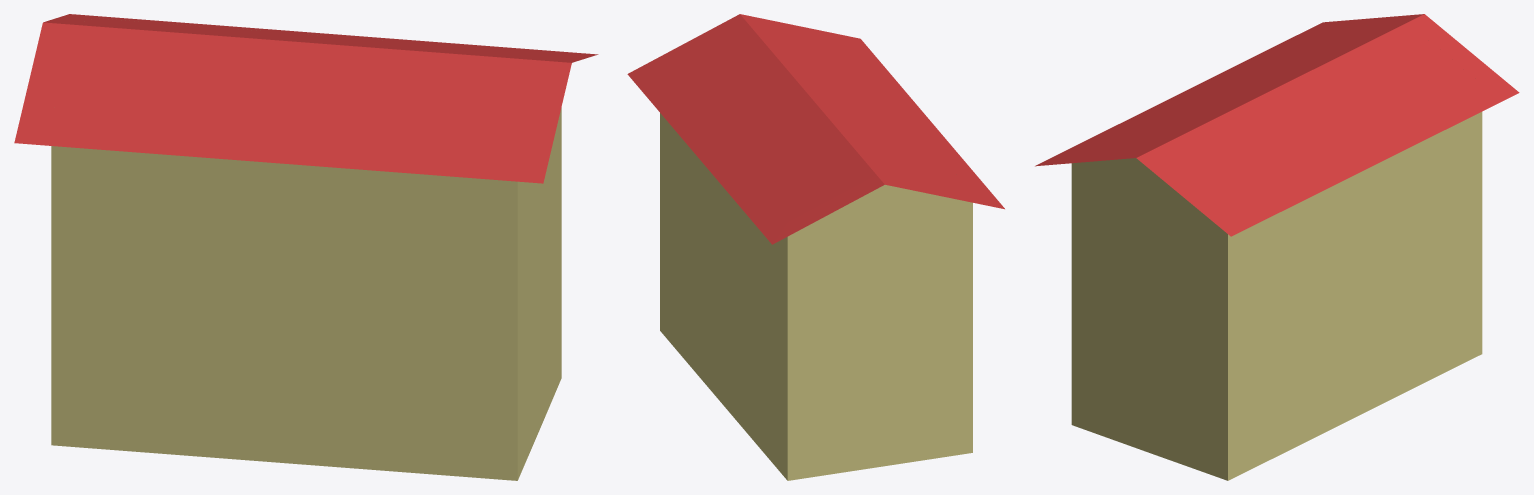
3 views of the same model, side by side, from view 1: azimuth 30°, elevation 25°; view 2: azimuth 150°, elevation 25°; view 3: azimuth 270°, elevation 25° (orthographic). The views are drawn at different scales.
Bounding box in the file's own units: 9.58 × 9.17 × 6.35.
